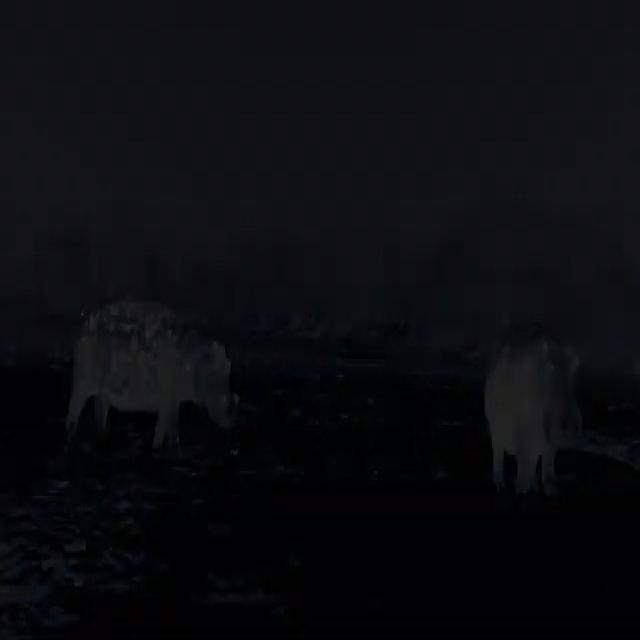animal: (58, 223, 266, 490), (463, 211, 617, 548)
